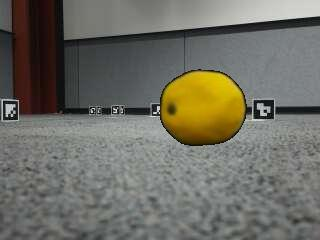lemon: (161, 69, 245, 144)
